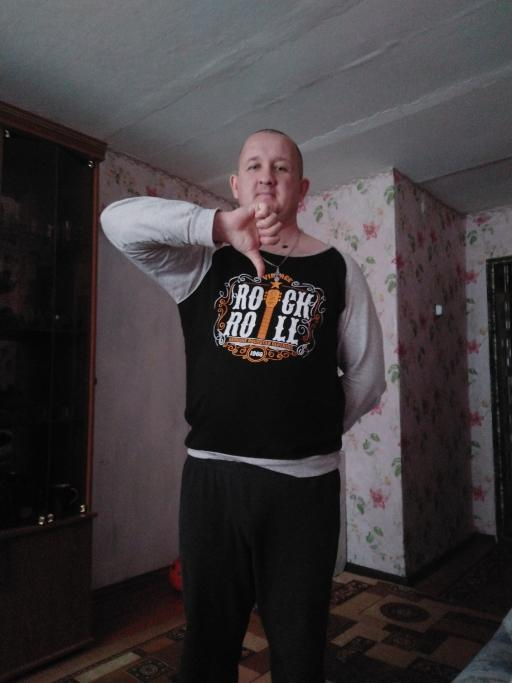dislike: (222, 199, 283, 279)
